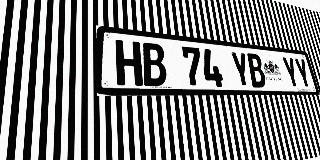4: (200, 48, 224, 87)
7: (180, 46, 205, 87)
B: (141, 42, 168, 86), (246, 53, 267, 88)
H: (115, 40, 143, 86)
Y: (230, 51, 252, 87), (281, 56, 301, 88), (293, 58, 312, 88)
